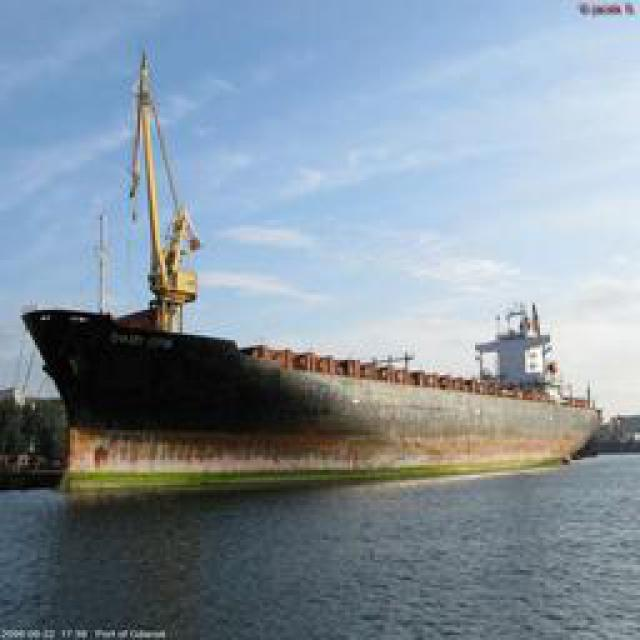Ship: (19, 143, 610, 508)
